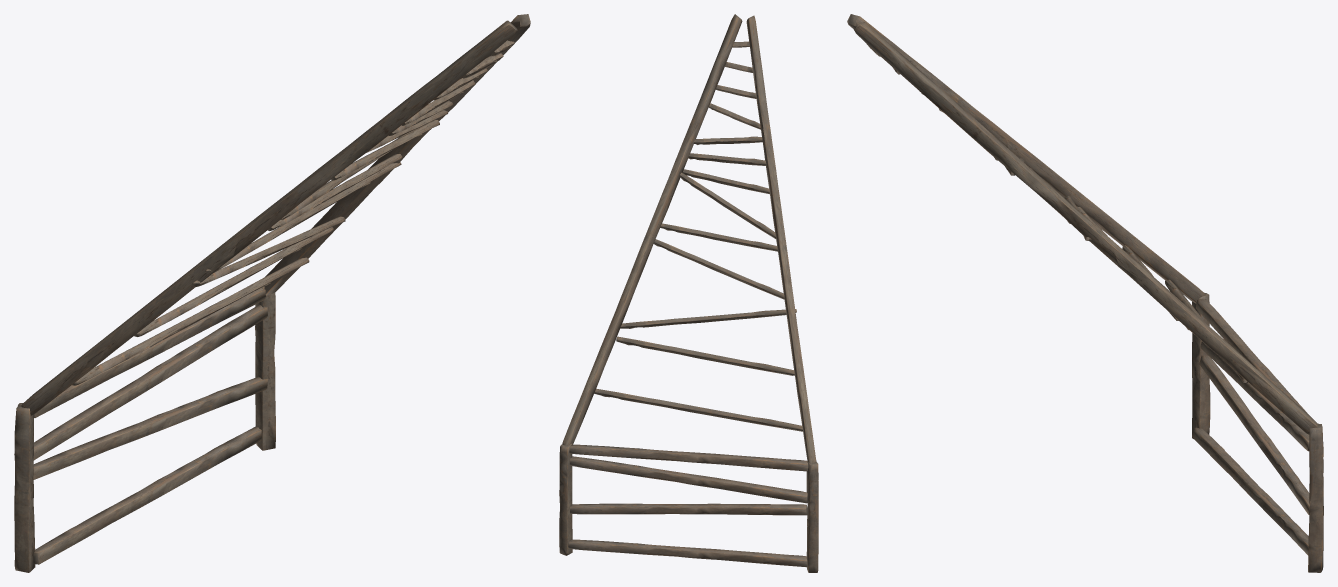
The model's file is Tent_P_WoodenStand05.FBX.
3 renders of one model, left to right at view 1: azimuth 30°, elevation 25°; view 2: azimuth 150°, elevation 25°; view 3: azimuth 270°, elevation 25°, orthographic. The views are drawn at different scales.
Visible parts, largest first — view 1: Tent_P_WoodenStand05; view 2: Tent_P_WoodenStand05; view 3: Tent_P_WoodenStand05.
Part boxes in pixels (box(x1,y1,x2,y2)): Tent_P_WoodenStand05: box(14, 14, 530, 572); Tent_P_WoodenStand05: box(559, 14, 818, 572); Tent_P_WoodenStand05: box(847, 14, 1323, 572).
Size of the model in its own units: 939 by 1728 by 1362.
